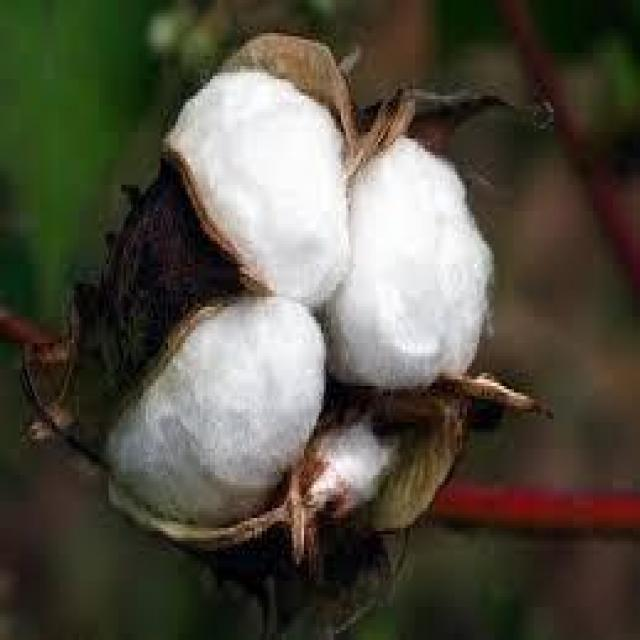Leaf: (11, 18, 572, 640)
